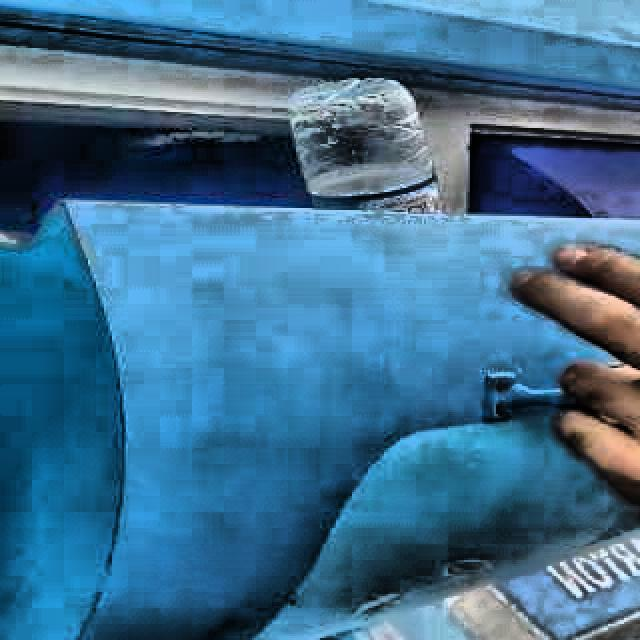plastic: (291, 78, 443, 212)
